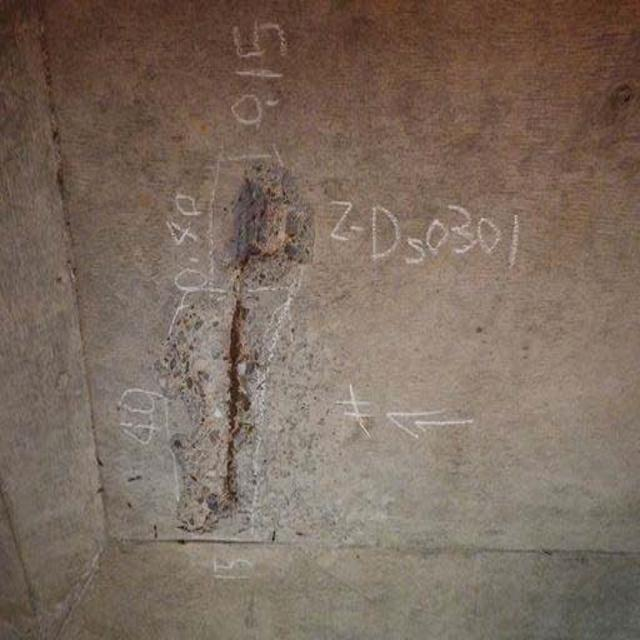spalling: (153, 137, 310, 552)
